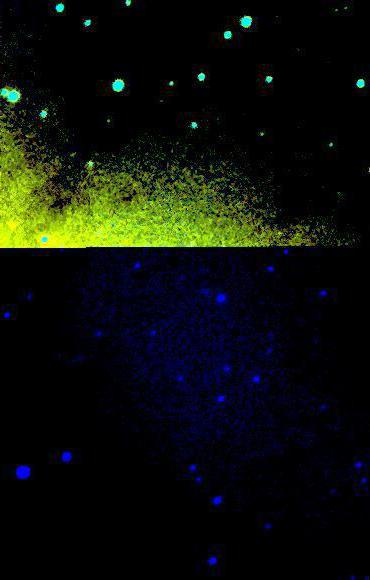star: (93, 103, 123, 133)
